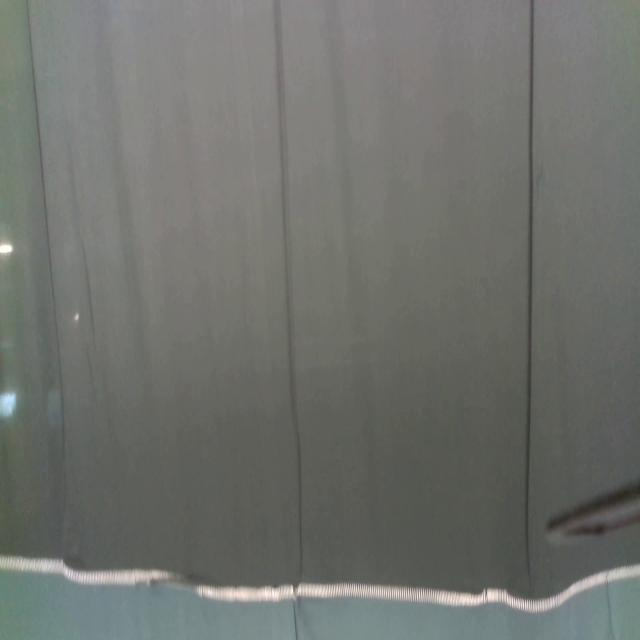crease: (24, 0, 67, 467), (274, 0, 306, 580), (523, 0, 534, 581), (292, 599, 298, 640)
